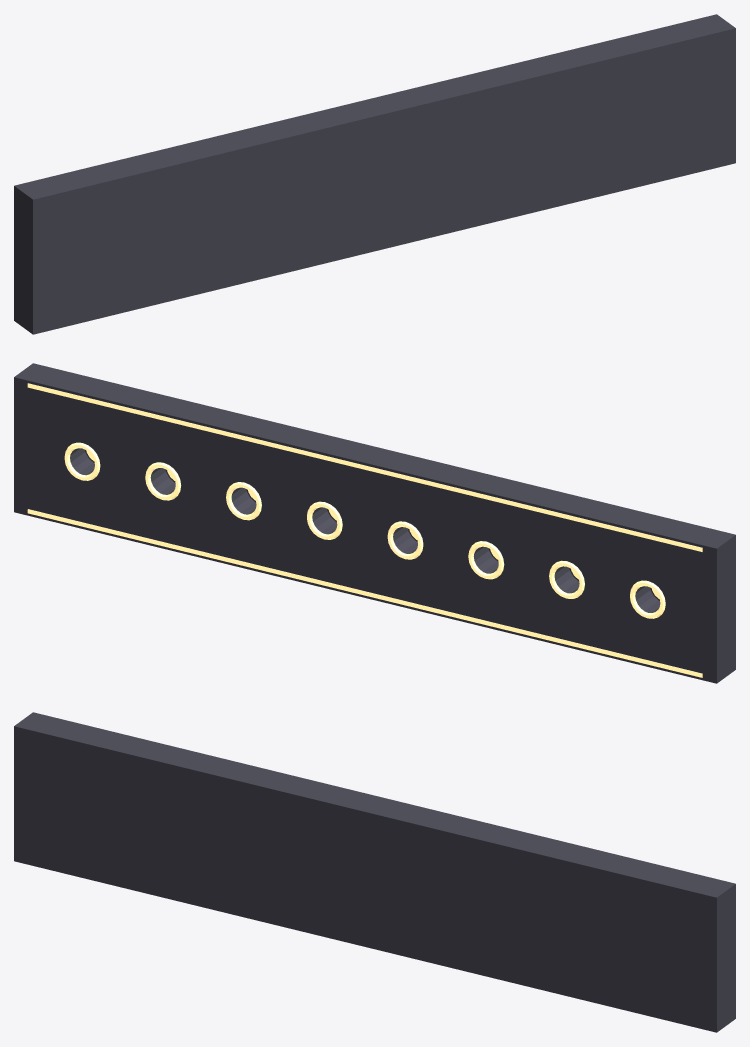
File: card_socket.glb
3 views of the same model, one above another, from view 1: azimuth 30°, elevation 25°; view 2: azimuth 150°, elevation 25°; view 3: azimuth 330°, elevation 25° (orthographic).
Visible parts, largest first — view 1: Koerper; view 2: Koerper, Lippe.001, Lippe, Feder3, Feder7, Feder2, Feder5, Feder6, Feder1, Feder0, Feder4; view 3: Koerper.
Part boxes in pixels (x1,y1,x2,y2): Koerper: [14, 14, 735, 334]; Koerper: [14, 363, 735, 683]; Lippe.001: [27, 383, 702, 551]; Lippe: [27, 509, 702, 677]; Feder3: [387, 521, 423, 559]; Feder7: [64, 442, 100, 480]; Feder2: [468, 541, 504, 579]; Feder5: [226, 482, 261, 520]; Feder6: [145, 462, 181, 500]; Feder1: [549, 560, 584, 598]; Feder0: [630, 580, 665, 618]; Feder4: [307, 501, 342, 539]; Koerper: [14, 712, 735, 1032].
Bounding box in the file's own units: 3.18 × 0.5838 × 0.1624.
